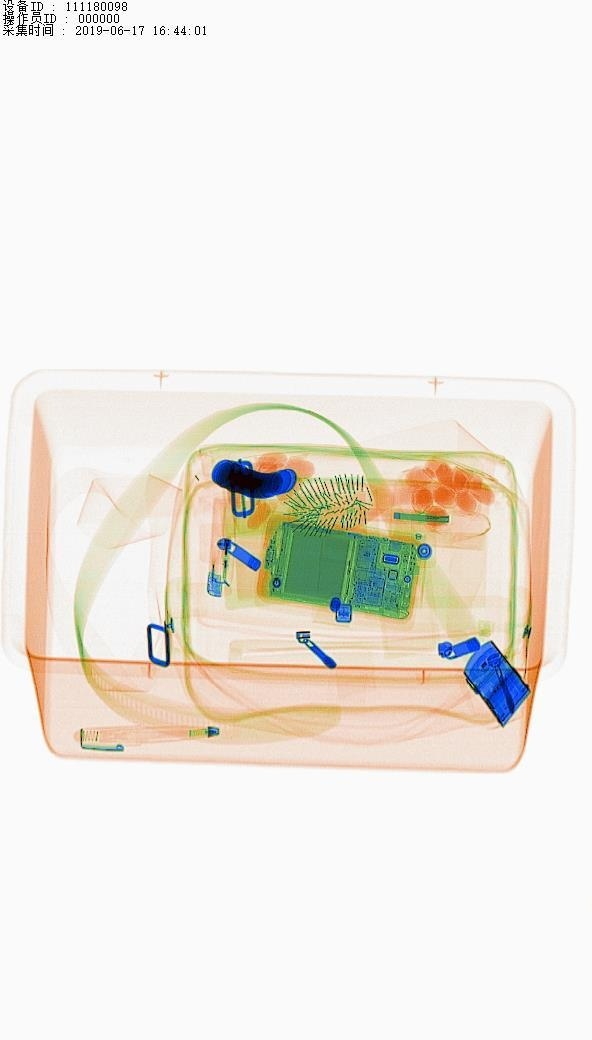NonmetallicFire: (199, 487, 254, 605)
